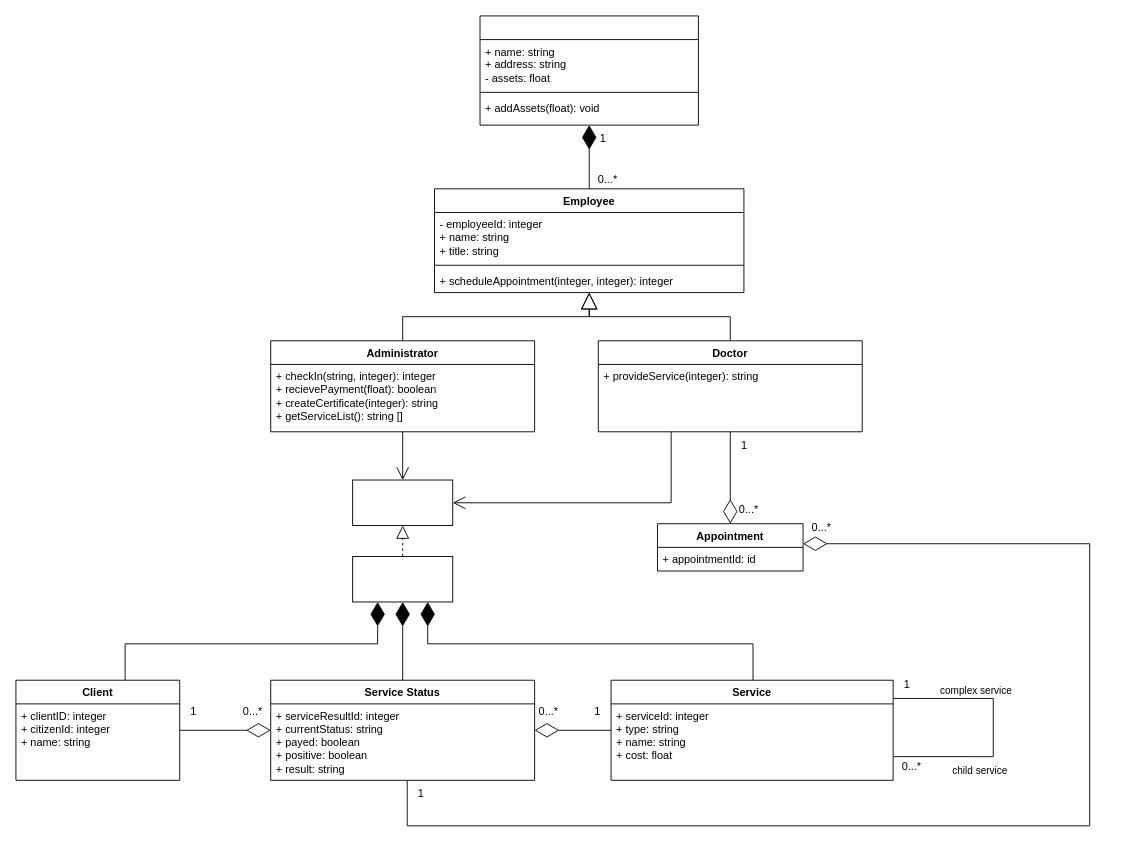
This 1129x865 diagram has some shape labels left out. The shapes that lost their labels are listed below. From the top down, each one's box as (x1, y1, x2, y2) in pixels, then its label:
(479, 15, 698, 125): Clinic
(352, 479, 453, 526): <<interface>> Manage
(352, 556, 453, 602): Catalog
